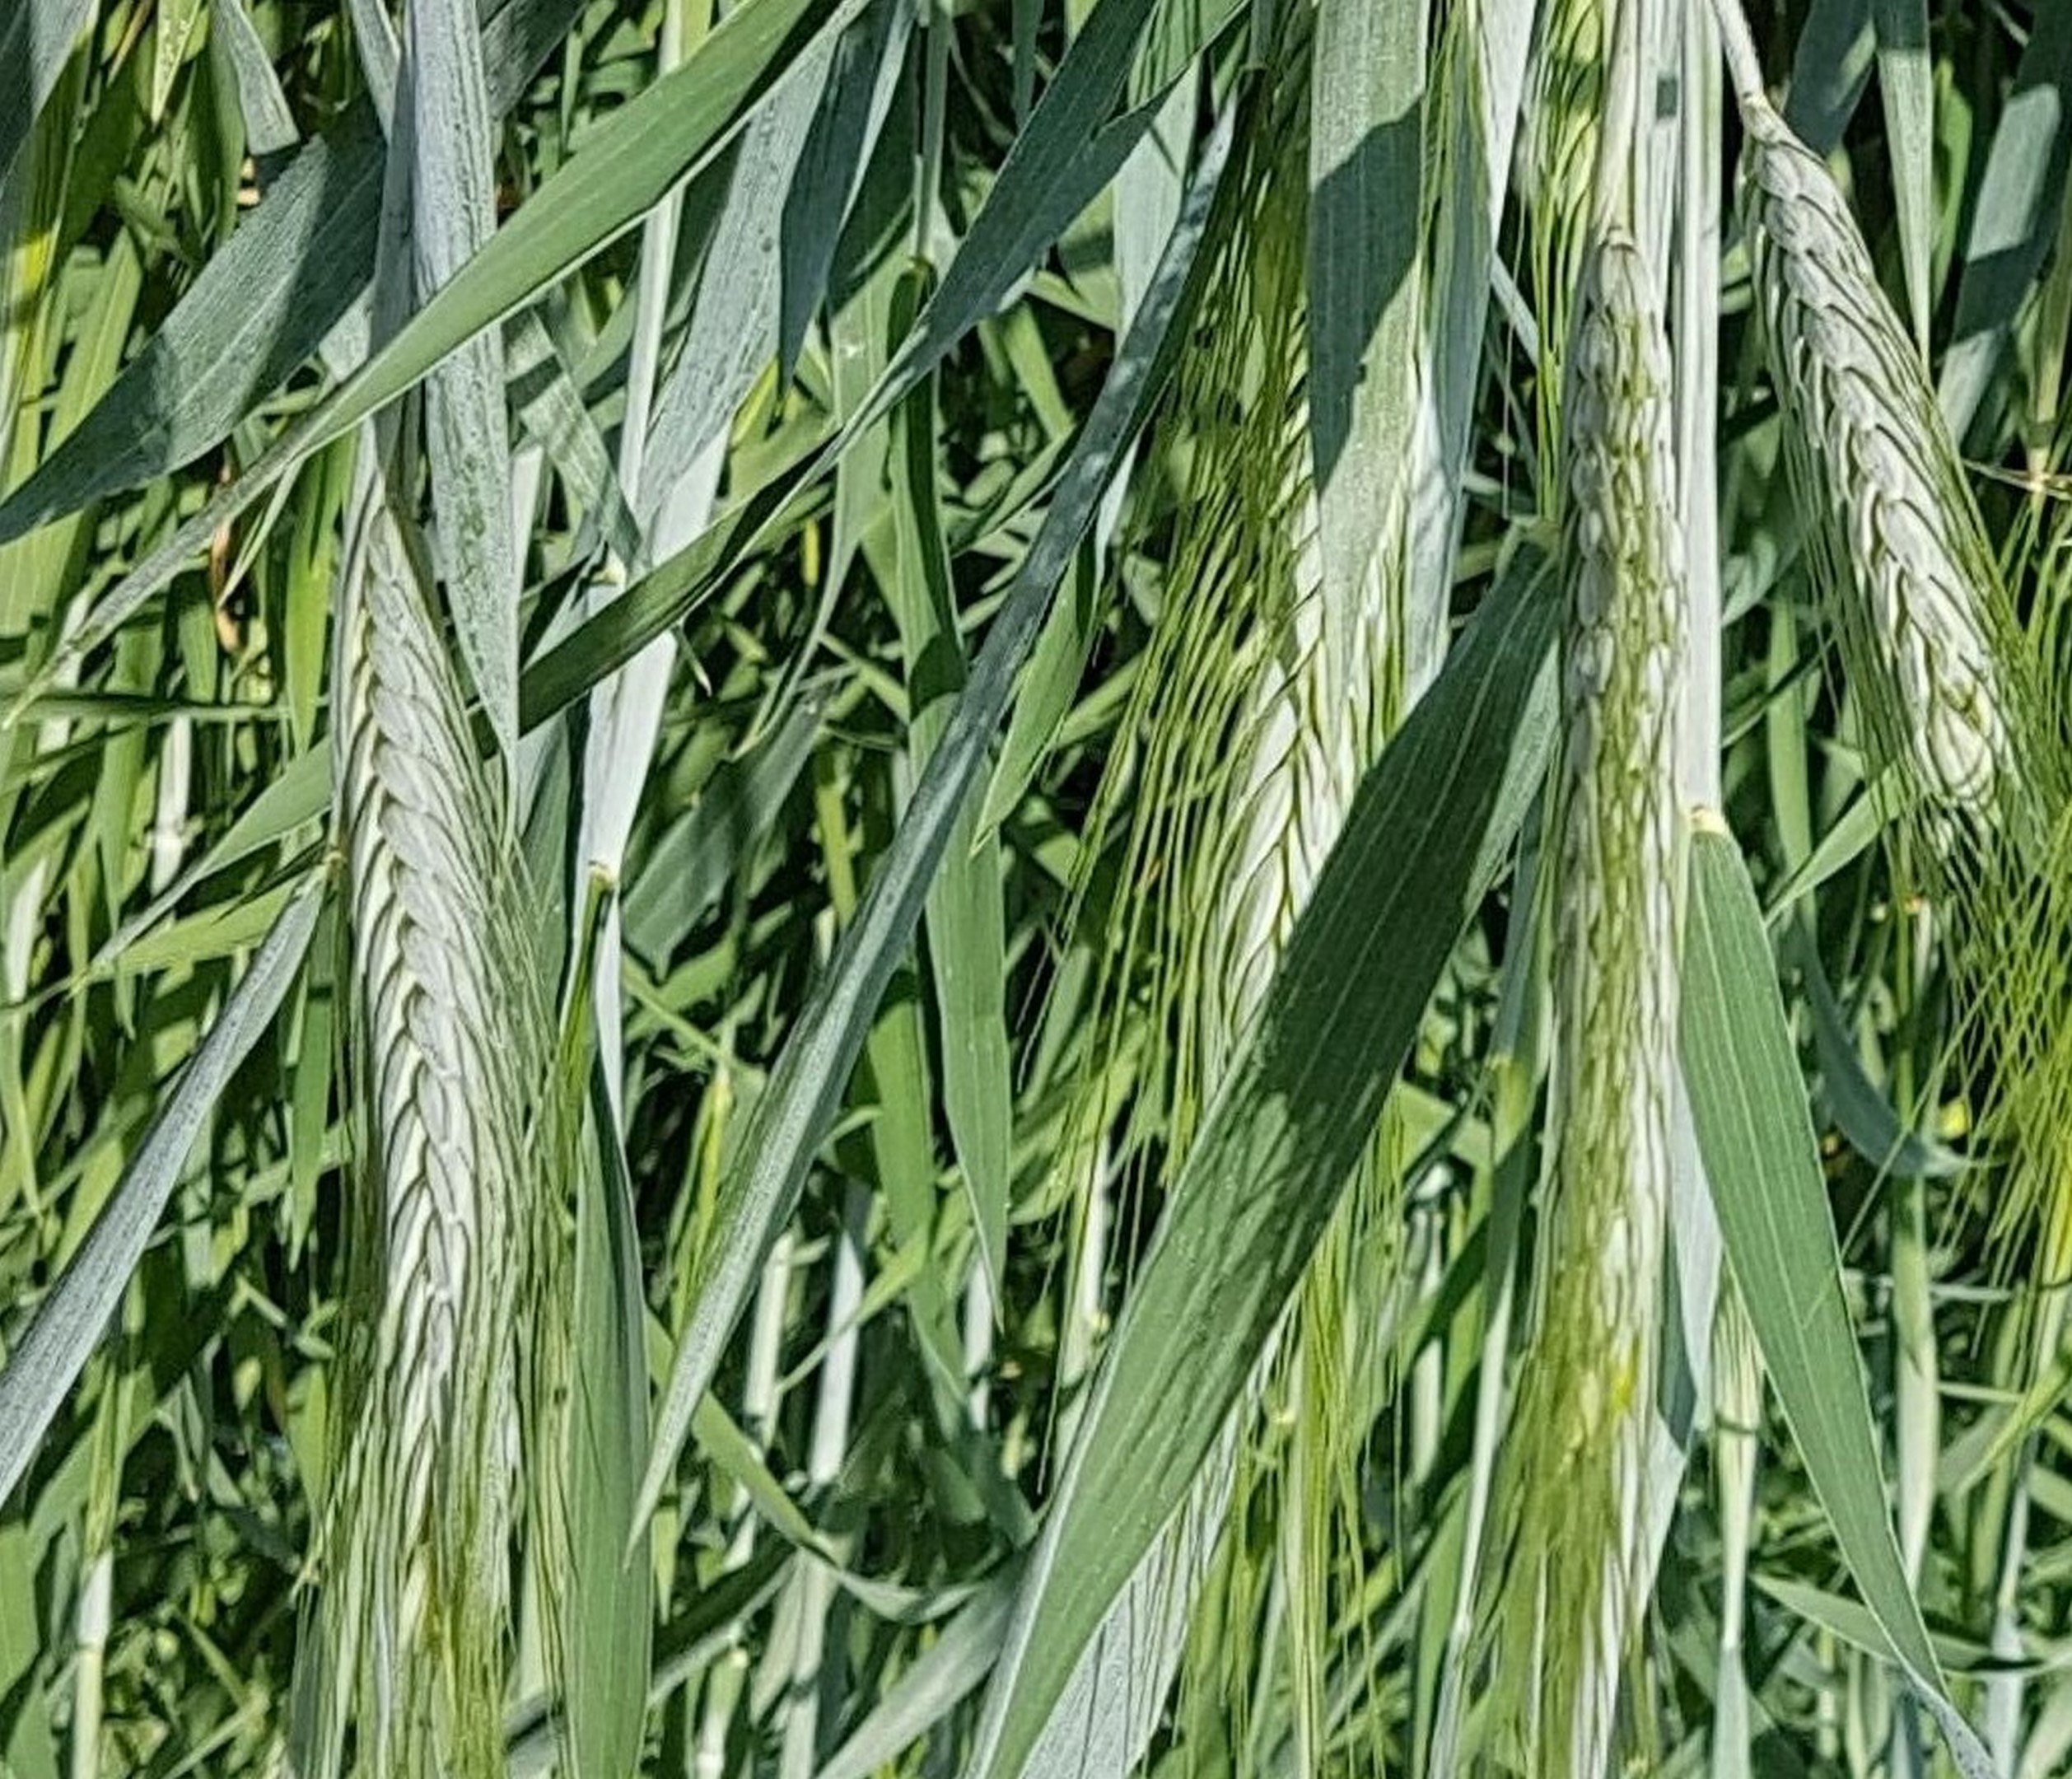Healthy Wheat: (1713, 113, 2072, 897), (296, 495, 555, 1469)
